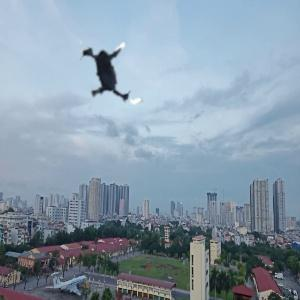drone: (62, 22, 161, 121)
